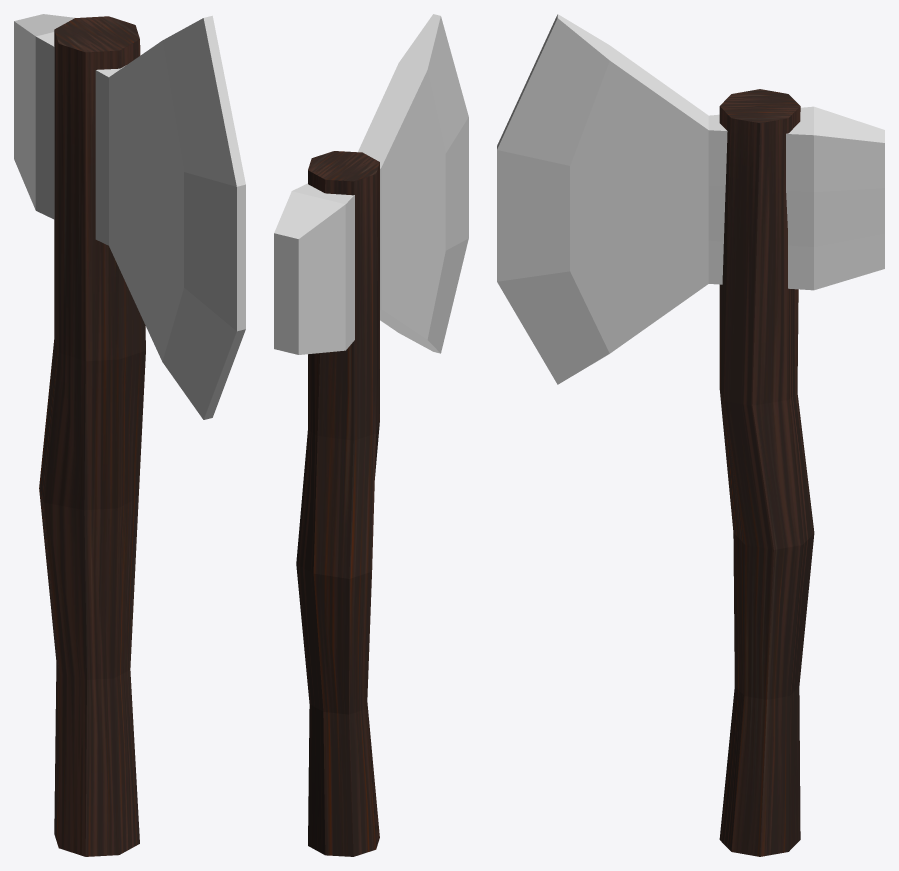
File: Axe.fbx
The picture shows the model from 3 angles, left to right: view 1: azimuth 30°, elevation 25°; view 2: azimuth 150°, elevation 25°; view 3: azimuth 270°, elevation 25°; orthographic projection. The views are drawn at different scales.
Visible parts, largest first — view 1: Cylinder, Cube; view 2: Cylinder, Cube; view 3: Cube, Cylinder.
Part boxes in pixels (box(x1,y1,x2,y2)): Cylinder: box(39, 16, 145, 856); Cube: box(14, 14, 245, 419); Cylinder: box(296, 151, 379, 856); Cube: box(274, 14, 468, 354); Cube: box(497, 14, 884, 384); Cylinder: box(719, 89, 814, 856).
Size of the model in its own units: 22.98 by 225 by 95.84.
